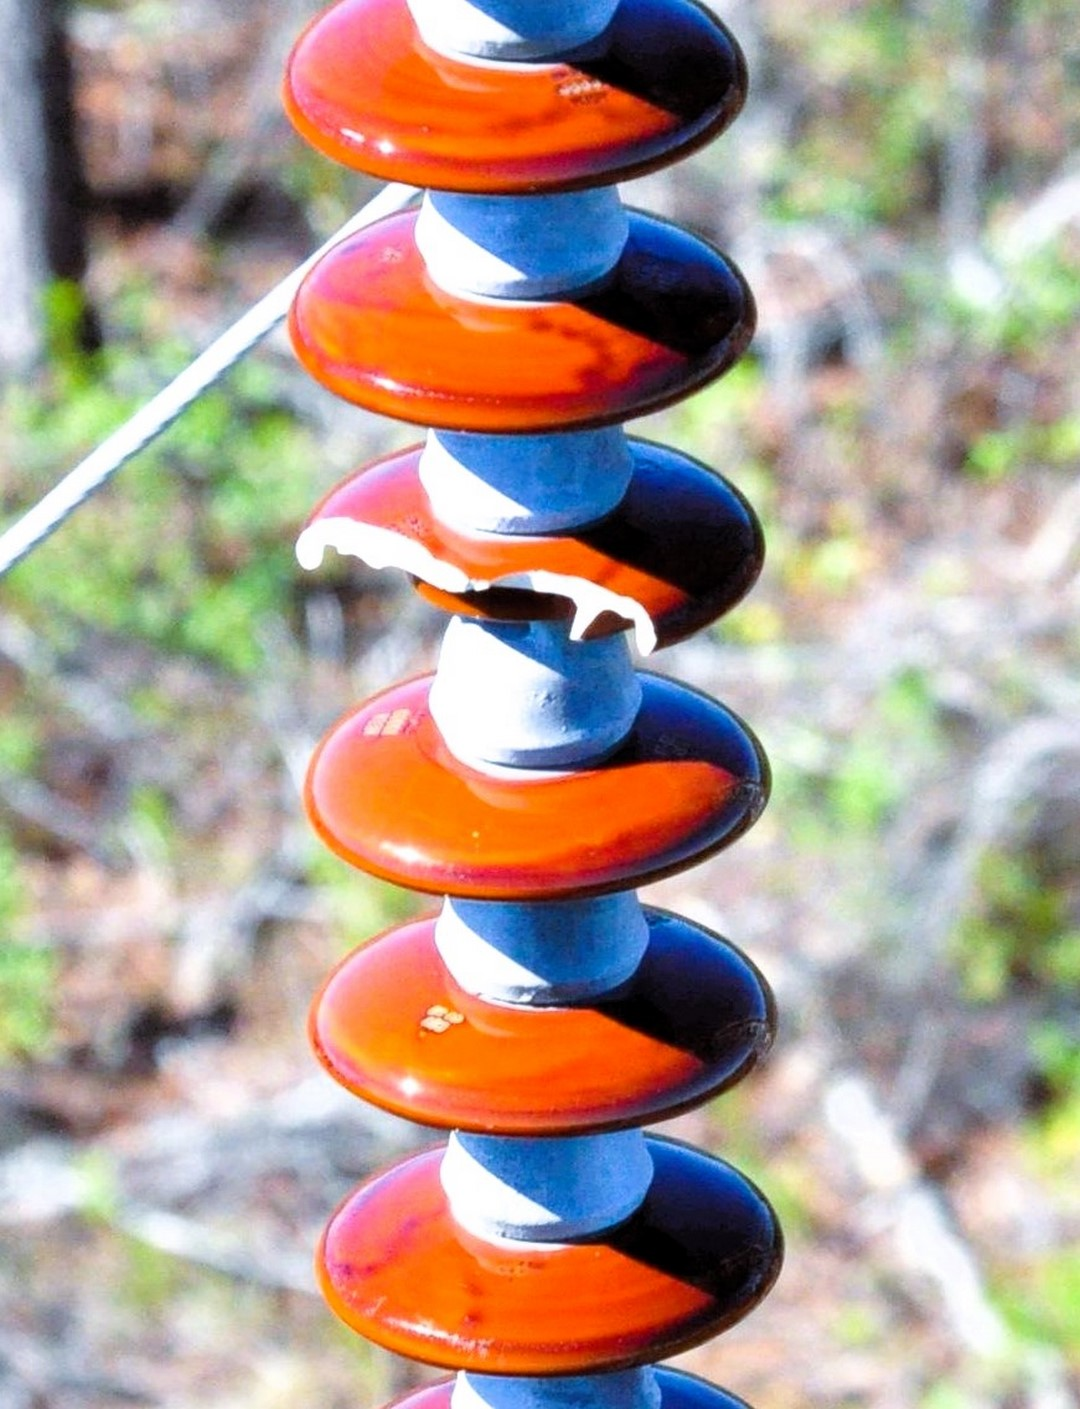insulator breakage: (282, 428, 773, 666)
